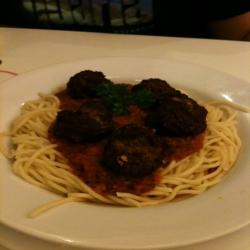bolonese_pasta: (10, 73, 250, 209)
